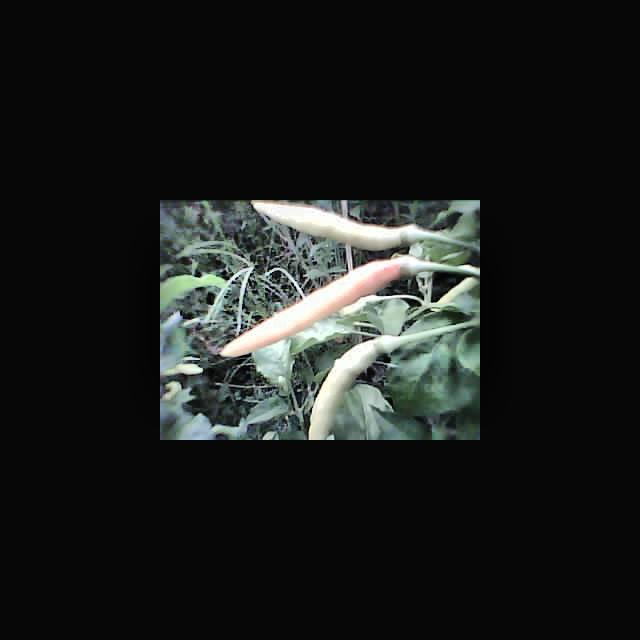Cabai: (242, 265, 424, 324)
